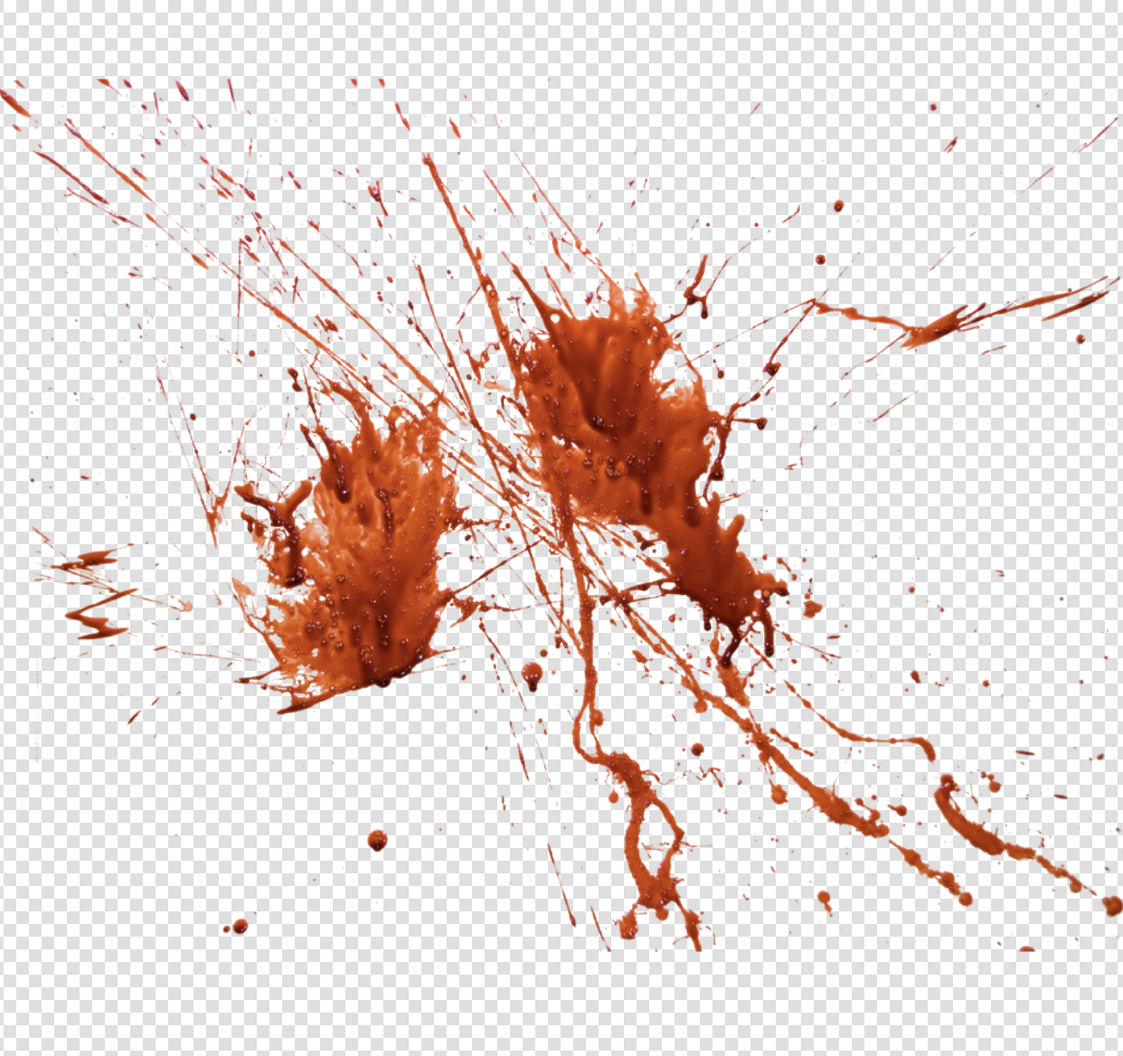blood_24.png: (6, 61, 1123, 962)
